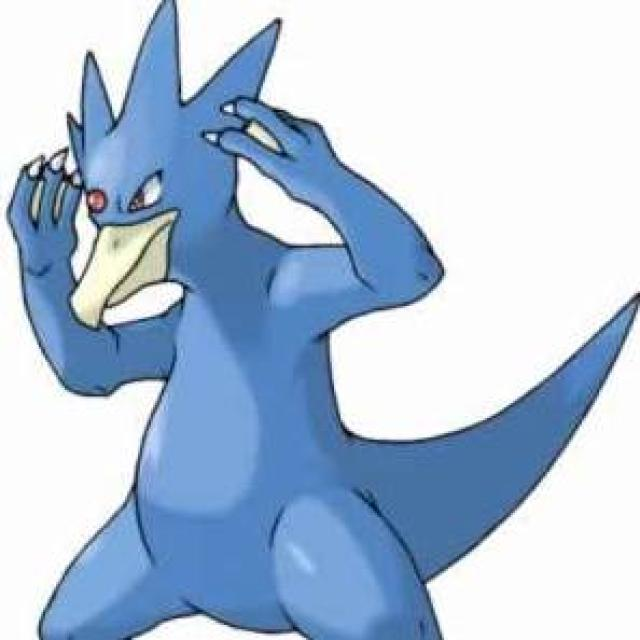Golduck: (2, 47, 436, 640)
